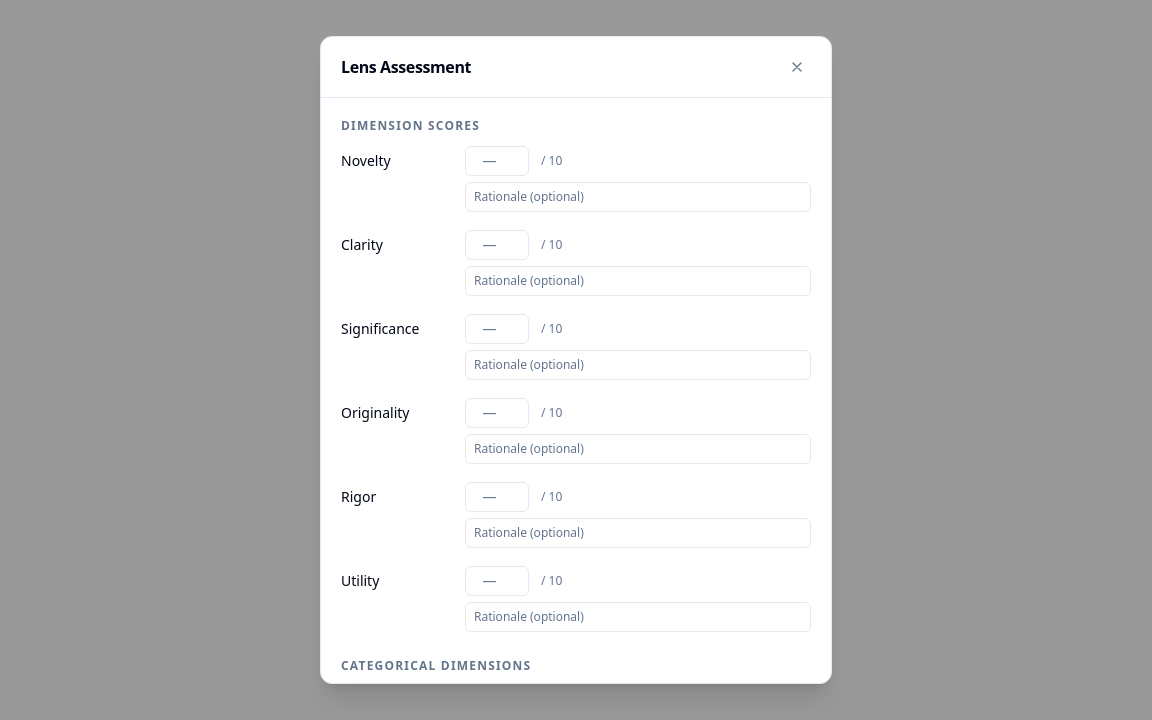
Test case: AssessmentModal — error state › shows generic error message for non-ApiError failures
This screenshot has width=1152, height=720.
Type "5" into the number field labelled "Novelty" at [497, 161], box [465, 146, 529, 176]
(page scrolled)
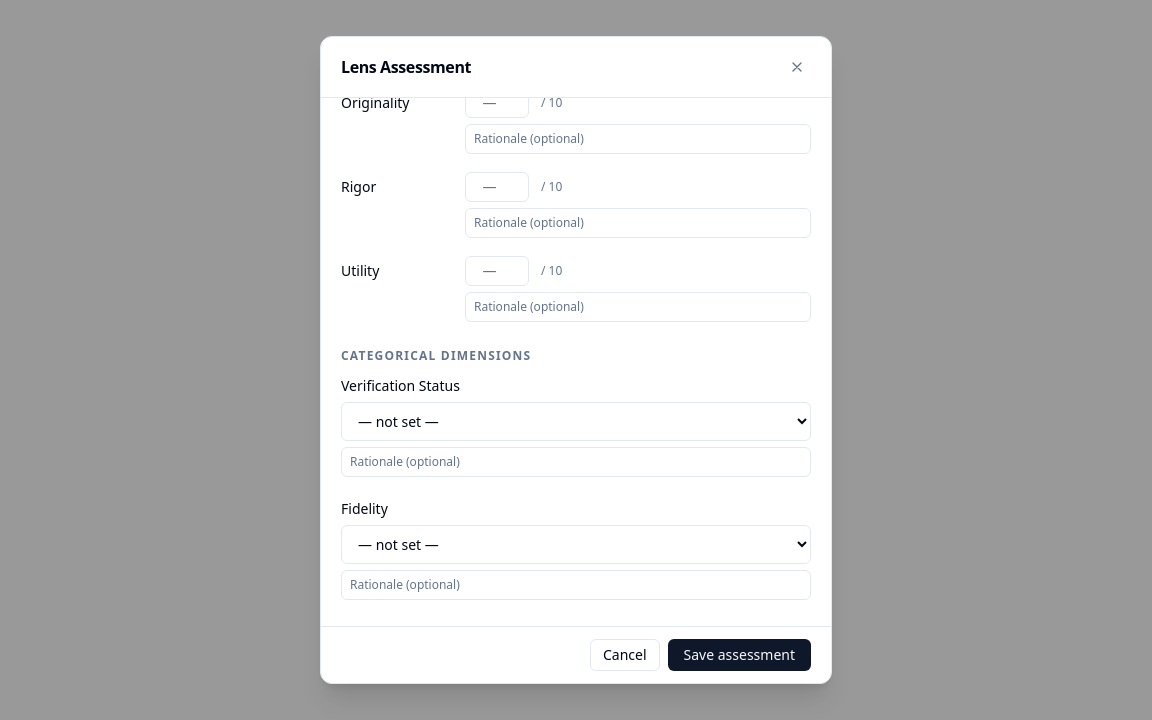
Click the button "Save assessment" at [739, 655], box [668, 639, 811, 671]
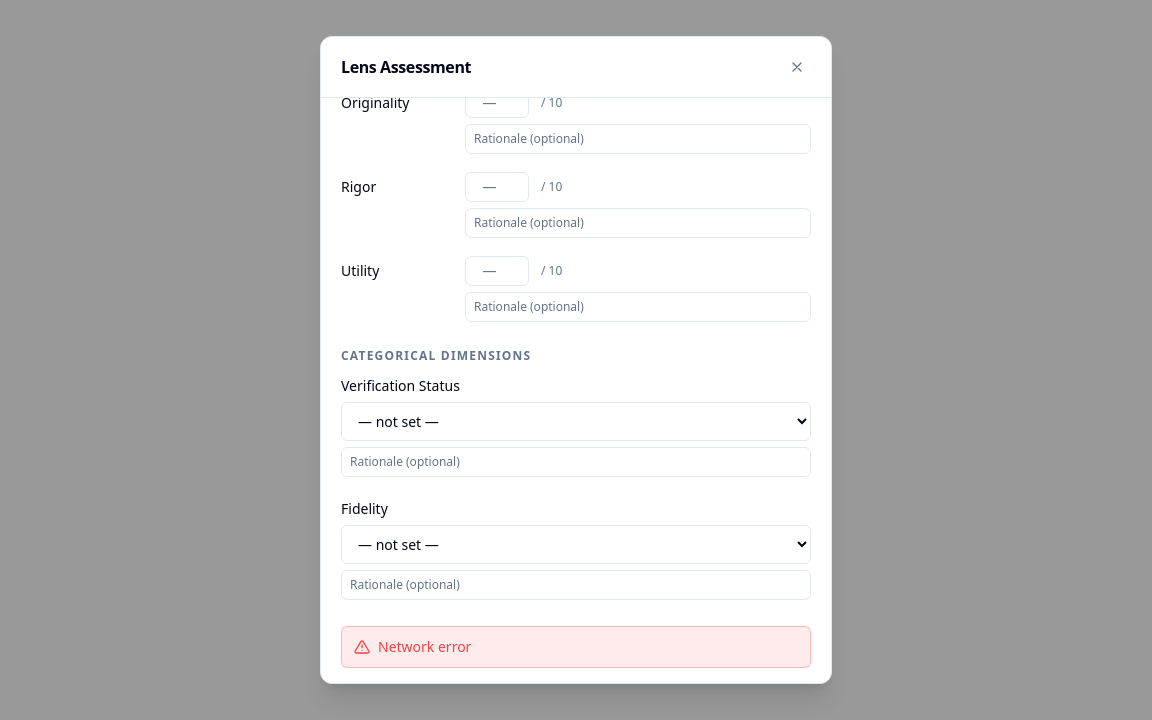
Expected: the message "Network error" is shown, [341, 626, 811, 668]
Expected: the text "Network error" is shown, [378, 637, 471, 657]
